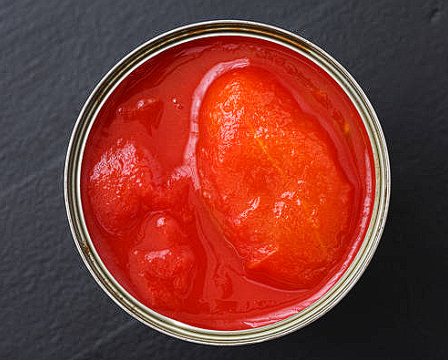Danificado: (67, 16, 392, 345)
